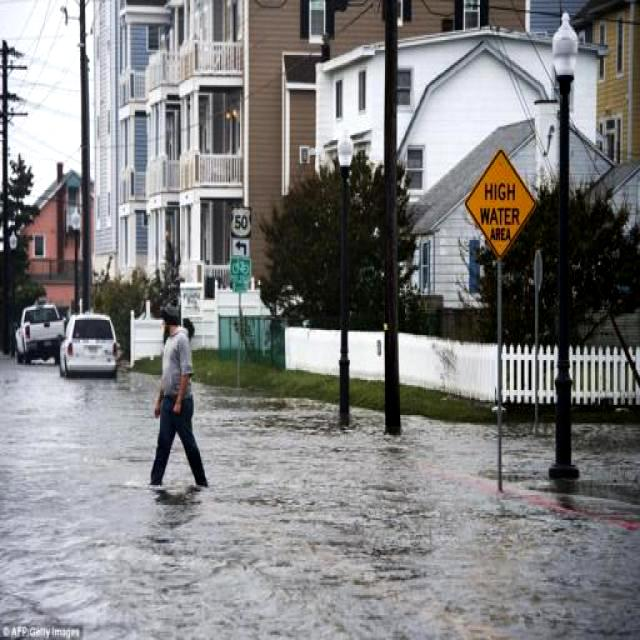civilian: (123, 266, 226, 518)
